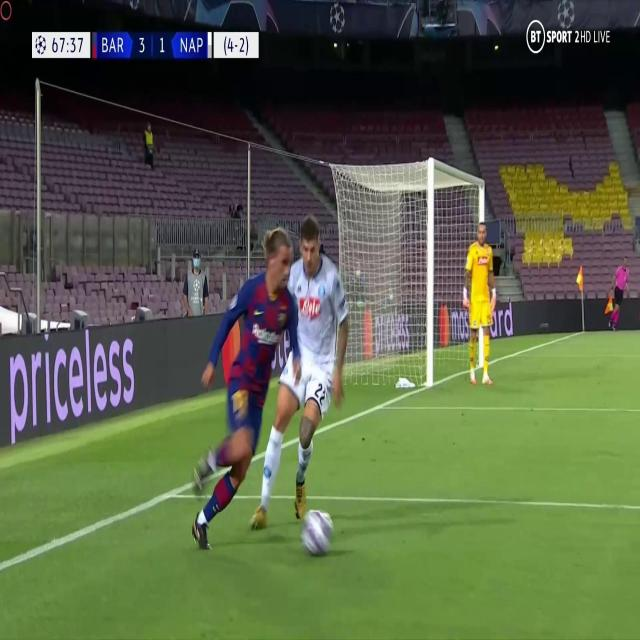ball: (300, 500, 338, 560)
player: (182, 228, 305, 549), (251, 210, 363, 536), (459, 215, 499, 390), (604, 257, 629, 330)
